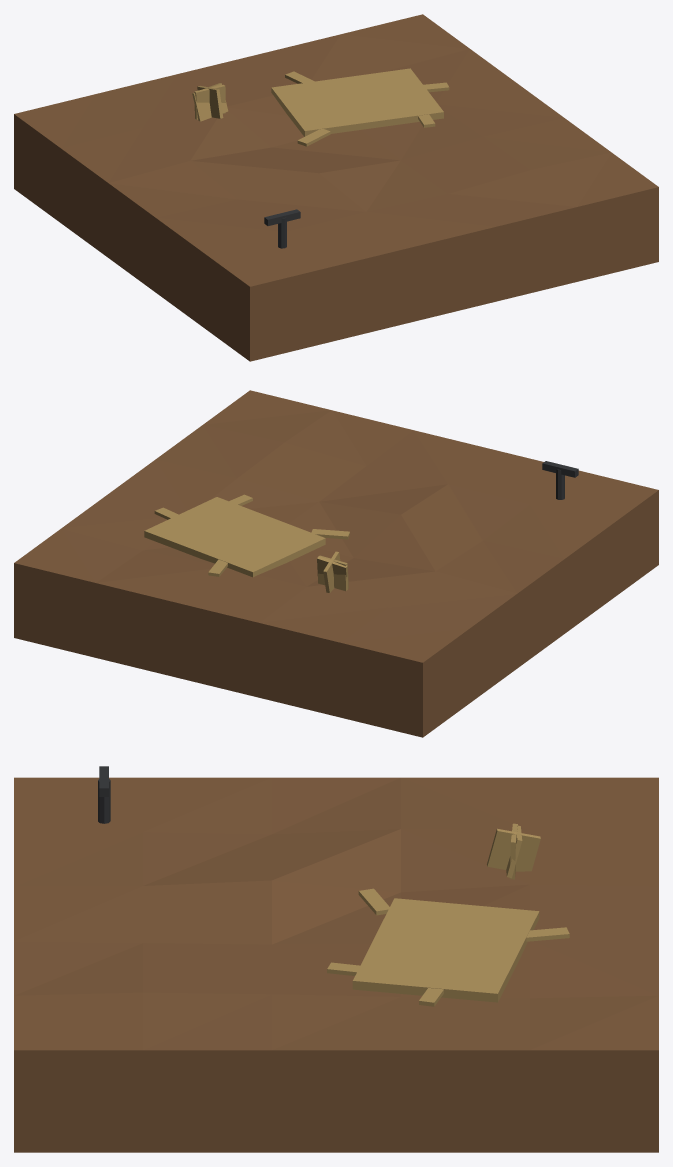
File: SM_Terrain_Tavern_02_Flat.glb
3 renders of one model, top to bottom at view 1: azimuth 30°, elevation 25°; view 2: azimuth 150°, elevation 25°; view 3: azimuth 270°, elevation 25°, orthographic. The views are drawn at different scales.
Parts seen in each view (by area): view 1: SM_Terrain_Tavern_02_Flat_Deck, SM_Terrain_Tavern_02_Flat_StrawMat; view 2: SM_Terrain_Tavern_02_Flat_Deck, SM_Terrain_Tavern_02_Flat_StrawMat; view 3: SM_Terrain_Tavern_02_Flat_Deck, SM_Terrain_Tavern_02_Flat_StrawMat, SM_Terrain_Tavern_02_Flat_Hay01.
Part boxes in pixels (box(x1,y1,x2,y2)): SM_Terrain_Tavern_02_Flat_Deck: box(14, 14, 658, 361); SM_Terrain_Tavern_02_Flat_StrawMat: box(271, 68, 443, 136); SM_Terrain_Tavern_02_Flat_Deck: box(14, 390, 658, 737); SM_Terrain_Tavern_02_Flat_StrawMat: box(144, 497, 325, 577); SM_Terrain_Tavern_02_Flat_Deck: box(14, 777, 658, 1152); SM_Terrain_Tavern_02_Flat_StrawMat: box(352, 898, 539, 1002); SM_Terrain_Tavern_02_Flat_Hay01: box(487, 828, 540, 871).
Bounding box in the file's own units: 2 × 0.5017 × 2.
